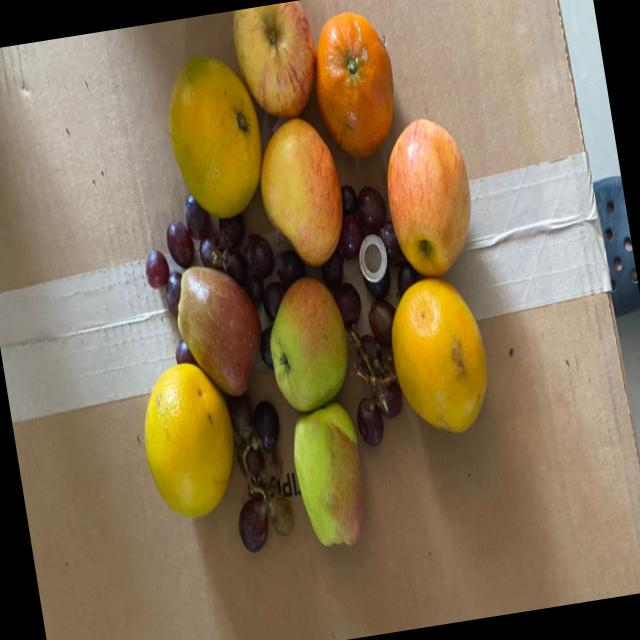moneda: (355, 233, 389, 282)
